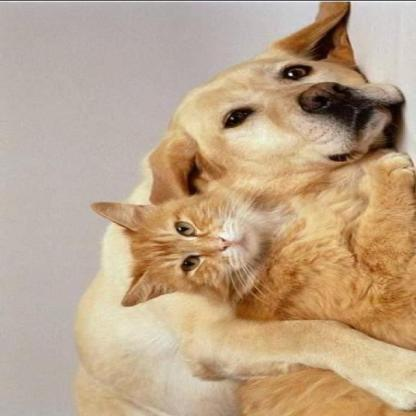cat: (101, 191, 271, 324)
dog: (151, 25, 409, 202)
